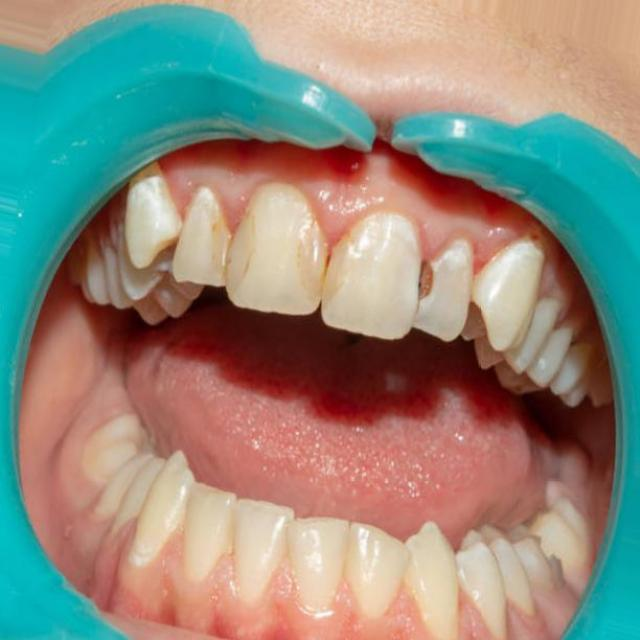caries: (283, 221, 382, 312), (530, 512, 586, 600), (203, 207, 262, 284), (404, 232, 450, 328)
